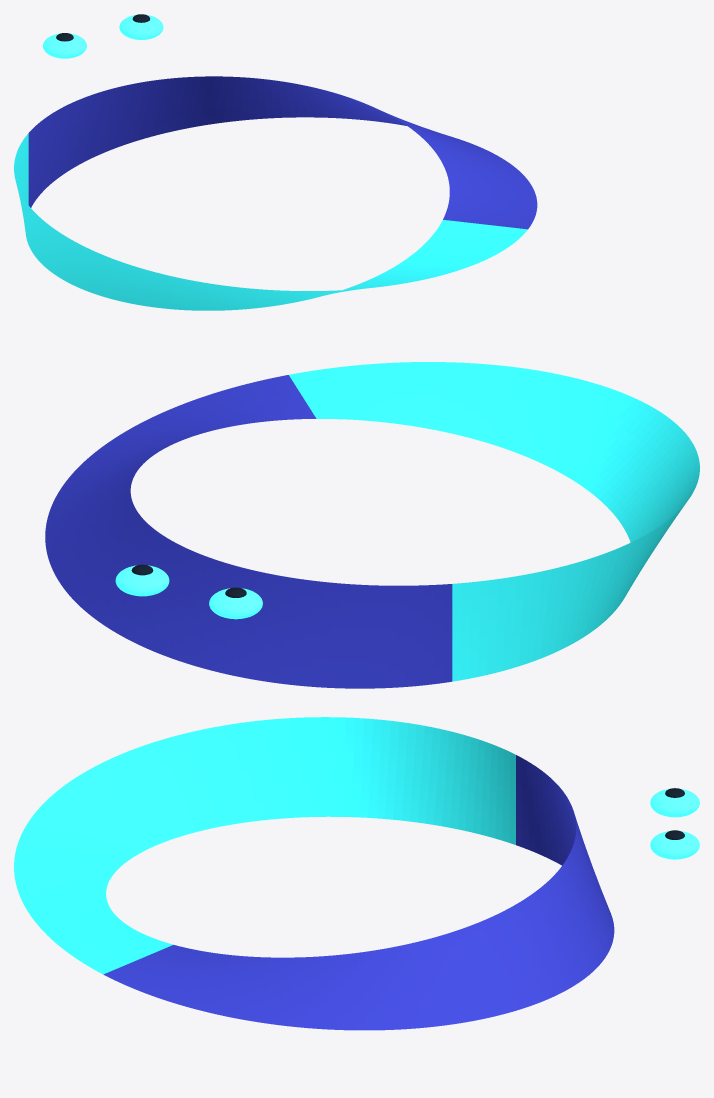
Rendered from mobius-ui-hangul-animated.glb.
3 renders of one model, top to bottom at view 1: azimuth 30°, elevation 25°; view 2: azimuth 150°, elevation 25°; view 3: azimuth 270°, elevation 25°, orthographic. The views are drawn at different scales.
Parts seen in each view (by area): view 1: MobiusBody, Eye_Left, Eye_Right; view 2: MobiusBody, Eye_Right, Eye_Left; view 3: MobiusBody, Eye_Right, Eye_Left.
Boxes of the visible parts, x1=… form: MobiusBody: x1=14, y1=76, x2=537, y2=310; Eye_Left: x1=43, y1=33, x2=86, y2=58; Eye_Right: x1=119, y1=14, x2=163, y2=39; MobiusBody: x1=45, y1=362, x2=699, y2=688; Eye_Right: x1=115, y1=565, x2=169, y2=596; Eye_Left: x1=209, y1=588, x2=262, y2=619; MobiusBody: x1=14, y1=717, x2=614, y2=1030; Eye_Right: x1=650, y1=831, x2=699, y2=859; Eye_Left: x1=650, y1=788, x2=699, y2=817.
Size of the model in its own units: 5.25 by 0.856 by 4.68.
